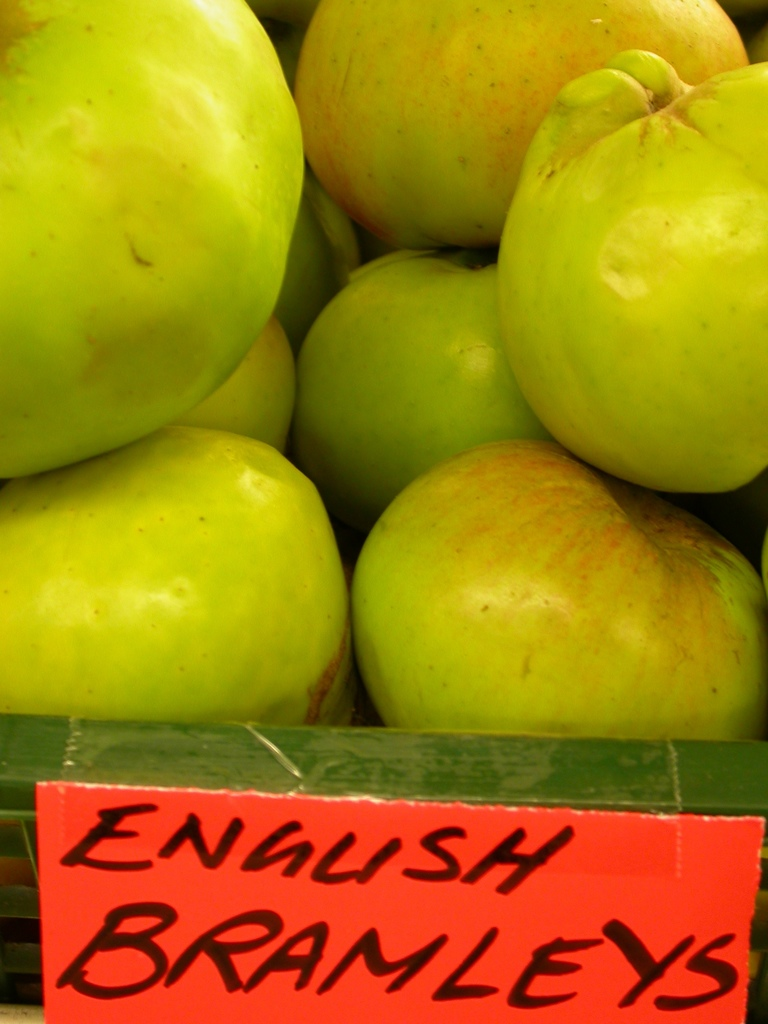Apple: (0, 0, 767, 743), (499, 69, 767, 492)
